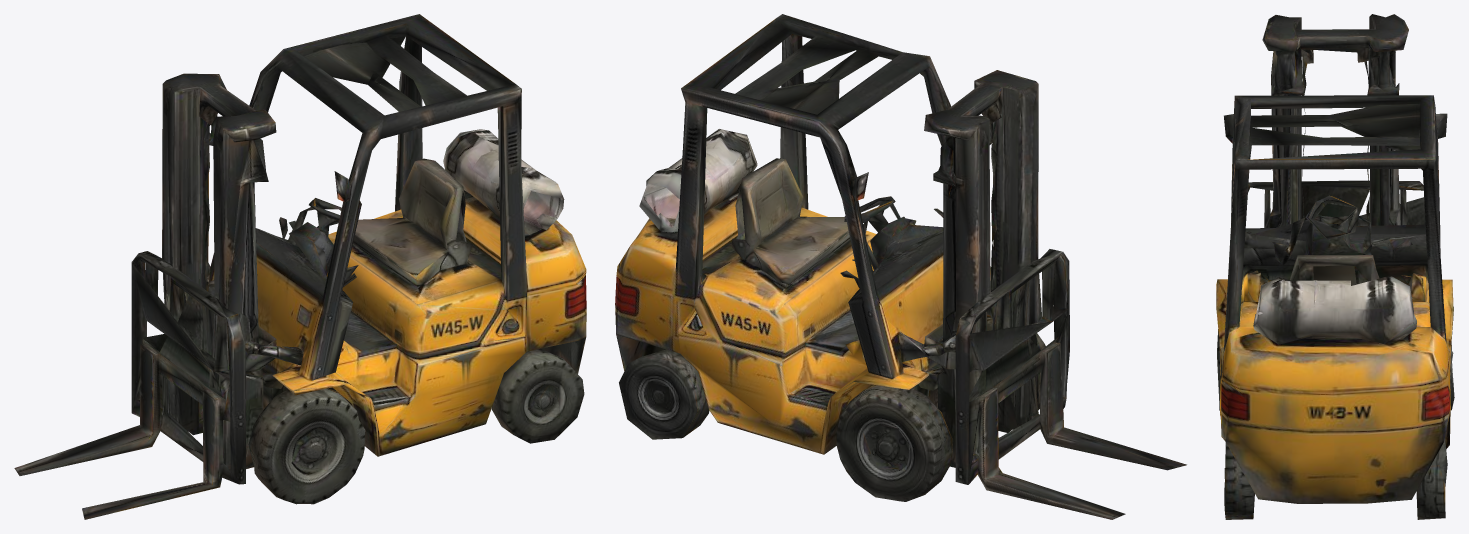
File: forklift.glb
3 views of the same model, side by side, from view 1: azimuth 30°, elevation 25°; view 2: azimuth 150°, elevation 25°; view 3: azimuth 270°, elevation 25° (orthographic). The views are drawn at different scales.
Parts seen in each view (by area): view 1: Mesh_0; view 2: Mesh_0; view 3: Mesh_0.
Boxes of the visible parts, left/top/right/bottom form: Mesh_0: left=14, top=14, right=586, bottom=519; Mesh_0: left=615, top=14, right=1186, bottom=519; Mesh_0: left=1216, top=14, right=1454, bottom=519.
Bounding box in the file's own units: 1.89 × 1.33 × 0.7878.
Materials: 1 (1 with a texture image).
